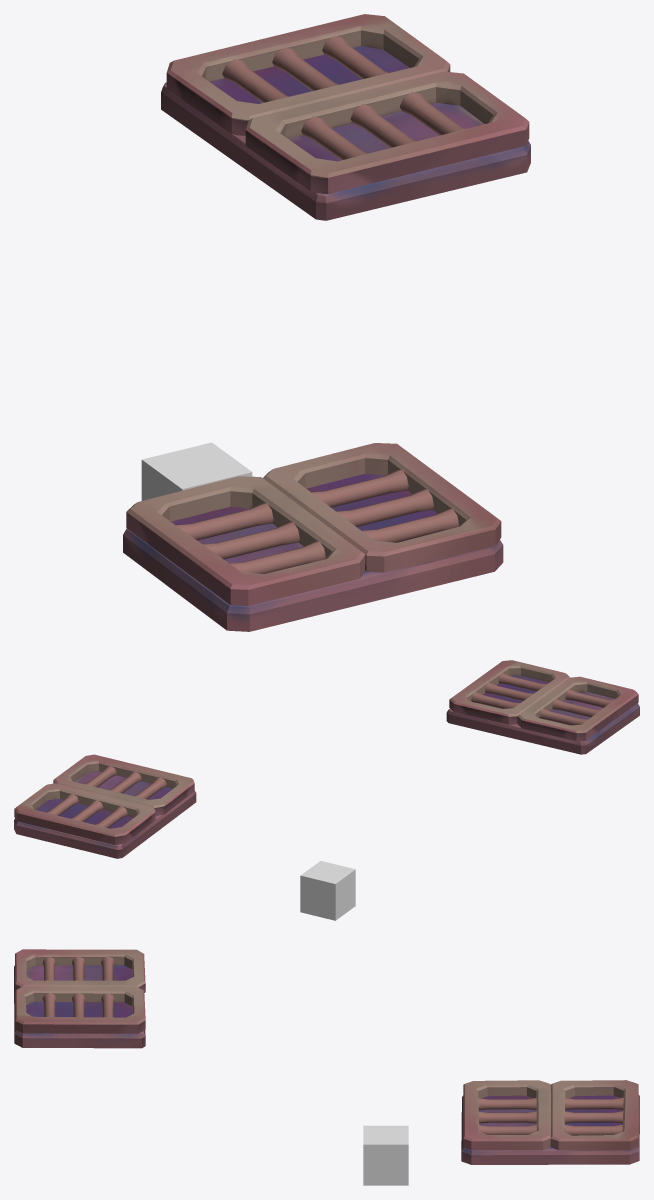
Rendered from award-floor004.fbx.
3 views of the same model, one above another, from view 1: azimuth 30°, elevation 25°; view 2: azimuth 150°, elevation 25°; view 3: azimuth 270°, elevation 25° (orthographic). The views are drawn at different scales.
Visible parts, largest first — view 1: Cube.071, Cube.068, award-floor004; view 2: Cube.071, Cube.068, award-floor004; view 3: Cube.071, Cube.068, award-floor004.
Part boxes in pixels (x1,y1,x2,y2): Cube.071: (161, 14, 530, 220); Cube.068: (123, 443, 503, 631); award-floor004: (141, 442, 252, 500); Cube.071: (14, 754, 196, 858); Cube.068: (446, 660, 639, 754); award-floor004: (300, 861, 355, 920); Cube.071: (461, 1080, 639, 1164); Cube.068: (14, 949, 145, 1048); award-floor004: (363, 1125, 408, 1185).
Bounding box in the file's own units: 796 × 284 × 1095.
